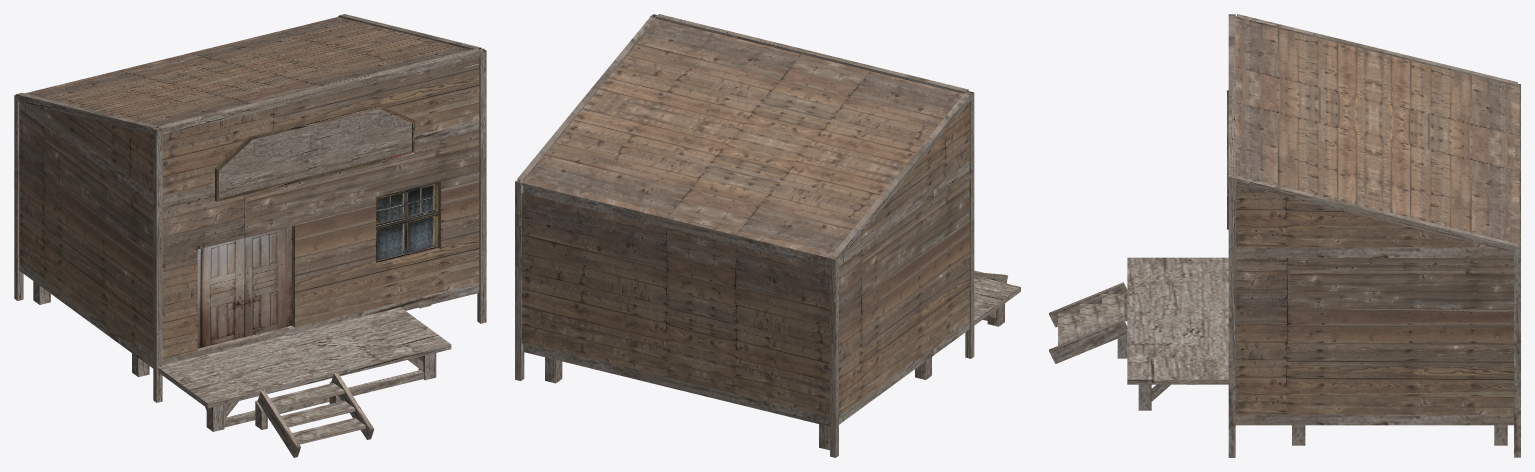
File: western_building.glb
3 views of the same model, side by side, from view 1: azimuth 30°, elevation 25°; view 2: azimuth 150°, elevation 25°; view 3: azimuth 270°, elevation 25° (orthographic). The views are drawn at different scales.
Parts seen in each view (by area): view 1: Object091_Material #30_0, Object092_Material #30_0, Object100_Material #30_0, Object098_Material #30_0, Box438_Material #30_0, Object096_Material #30_0, Box466_Material #30_0, Object102_Material #30_0, Box437_Material #30_0, Box463_Material #30_0, Box461_Material #30_0, Box458_Material #30_0 (+10 smaller); view 2: Object100_Material #30_0, Object099_Material #30_0, Object098_Material #30_0, Box437_Material #30_0, Box461_Material #30_0, Object102_Material #30_0, Box464_Material #30_0, Box463_Material #30_0, Box460_Material #30_0, Box458_Material #30_0, Box459_Material #30_0, Box465_Material #30_0 (+1 smaller); view 3: Object100_Material #30_0, Object097_Material #30_0, Box438_Material #30_0, Object101_Material #30_0, Box437_Material #30_0, Box461_Material #30_0, Box465_Material #30_0, Box462_Material #30_0, Box464_Material #30_0, Box459_Material #30_0, Box456_Material #30_0, Box463_Material #30_0 (+4 smaller).
Boxes of the visible parts, x1=… form: Object091_Material #30_0: x1=162, y1=173, x2=335, y2=359; Object092_Material #30_0: x1=335, y1=130, x2=479, y2=317; Object100_Material #30_0: x1=25, y1=17, x2=470, y2=129; Object098_Material #30_0: x1=19, y1=108, x2=153, y2=357; Box438_Material #30_0: x1=158, y1=307, x2=451, y2=408; Object096_Material #30_0: x1=157, y1=51, x2=481, y2=196; Box466_Material #30_0: x1=215, y1=105, x2=414, y2=201; Object102_Material #30_0: x1=29, y1=104, x2=156, y2=194; Box437_Material #30_0: x1=19, y1=261, x2=479, y2=368; Box463_Material #30_0: x1=159, y1=48, x2=480, y2=134; Box461_Material #30_0: x1=19, y1=101, x2=479, y2=206; Box458_Material #30_0: x1=153, y1=127, x2=162, y2=402; Object100_Material #30_0: x1=519, y1=16, x2=970, y2=259; Object099_Material #30_0: x1=521, y1=193, x2=829, y2=416; Object098_Material #30_0: x1=839, y1=171, x2=969, y2=414; Box437_Material #30_0: x1=521, y1=319, x2=969, y2=426; Box461_Material #30_0: x1=519, y1=161, x2=969, y2=267; Object102_Material #30_0: x1=835, y1=93, x2=971, y2=258; Box464_Material #30_0: x1=831, y1=93, x2=970, y2=260; Box463_Material #30_0: x1=655, y1=14, x2=968, y2=93; Box460_Material #30_0: x1=830, y1=258, x2=838, y2=457; Box458_Material #30_0: x1=965, y1=91, x2=974, y2=358; Box459_Material #30_0: x1=515, y1=179, x2=524, y2=380; Box465_Material #30_0: x1=517, y1=17, x2=655, y2=182; Object100_Material #30_0: x1=1231, y1=15, x2=1519, y2=247; Object097_Material #30_0: x1=1235, y1=258, x2=1513, y2=414; Box438_Material #30_0: x1=1127, y1=257, x2=1228, y2=384; Object101_Material #30_0: x1=1231, y1=177, x2=1518, y2=246; Box437_Material #30_0: x1=1235, y1=414, x2=1513, y2=425; Box461_Material #30_0: x1=1235, y1=247, x2=1519, y2=257; Box465_Material #30_0: x1=1235, y1=175, x2=1517, y2=252; Box462_Material #30_0: x1=1228, y1=176, x2=1235, y2=457; Box464_Material #30_0: x1=1236, y1=14, x2=1517, y2=86; Box459_Material #30_0: x1=1514, y1=246, x2=1520, y2=457; Box456_Material #30_0: x1=1049, y1=319, x2=1127, y2=363; Box463_Material #30_0: x1=1228, y1=15, x2=1235, y2=176.
Size of the model in its own units: 0.1654 by 0.1337 by 0.1997.
1 material, 1 textured.
